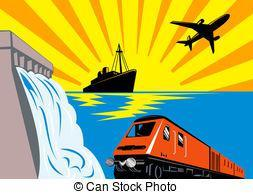aeroplane: (170, 9, 233, 54)
train: (108, 114, 246, 179)
